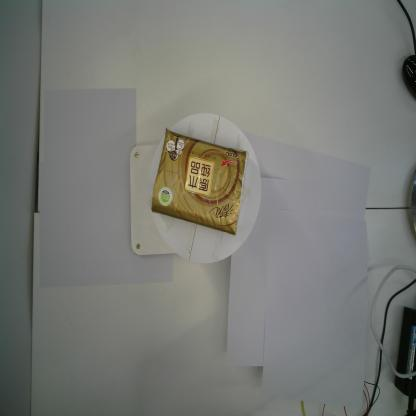Tissue: (150, 127, 250, 238)
